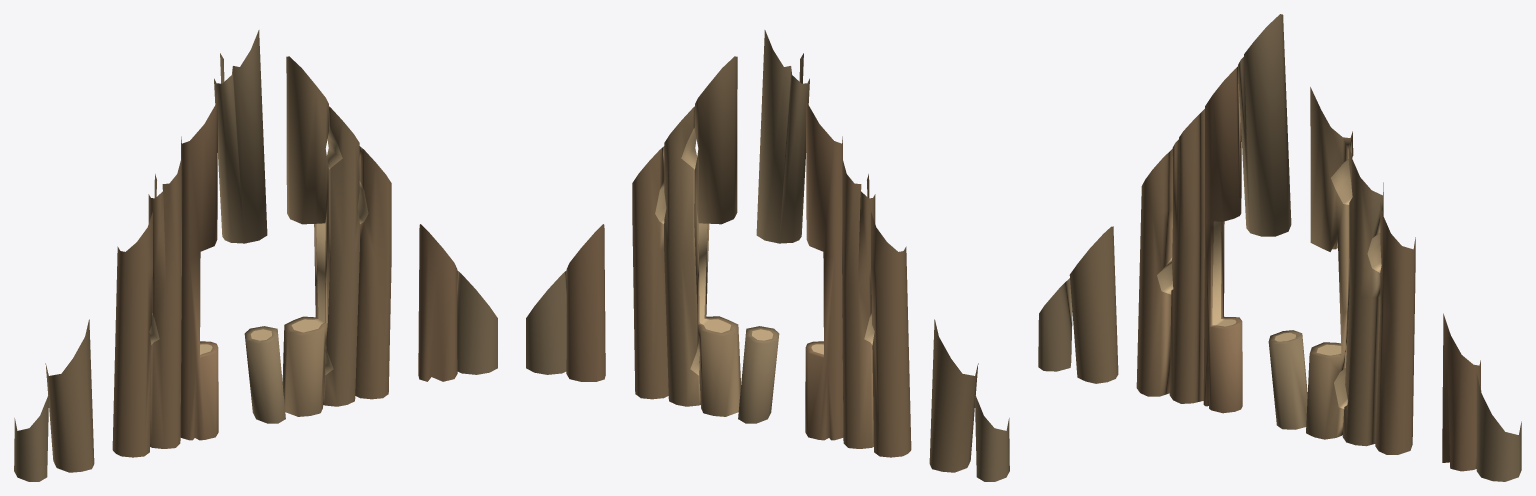
File: rpgpp_av_roof_end_01_6x5_wall_window_04a.gltf
3 views of the same model, side by side, from view 1: azimuth 30°, elevation 25°; view 2: azimuth 150°, elevation 25°; view 3: azimuth 330°, elevation 25° (orthographic).
Parts seen in each view (by area): view 1: rpgpp_av_roof_end_01_6x5_wall_window_04a; view 2: rpgpp_av_roof_end_01_6x5_wall_window_04a; view 3: rpgpp_av_roof_end_01_6x5_wall_window_04a.
Part boxes in pixels (x1=…): rpgpp_av_roof_end_01_6x5_wall_window_04a: x1=14, y1=30, x2=497, y2=481; rpgpp_av_roof_end_01_6x5_wall_window_04a: x1=526, y1=30, x2=1009, y2=481; rpgpp_av_roof_end_01_6x5_wall_window_04a: x1=1038, y1=14, x2=1521, y2=481.
Size of the model in its own units: 0.06 by 0.0487 by 0.00463.
1 material, 1 textured.
